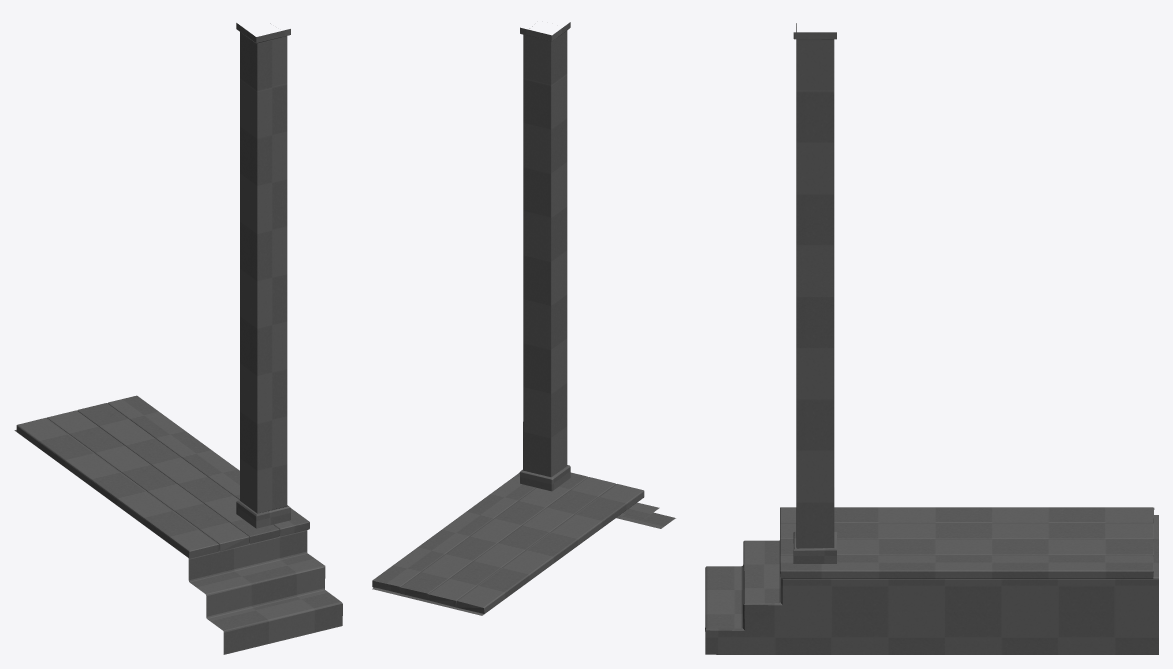
Rendered from SM_House_FrontStairs_A_RHT.glb.
3 renders of one model, left to right at view 1: azimuth 30°, elevation 25°; view 2: azimuth 150°, elevation 25°; view 3: azimuth 270°, elevation 25°, orthographic. The views are drawn at different scales.
Parts seen in each view (by area): view 1: SM_House_FrontStairs_A_RHT; view 2: SM_House_FrontStairs_A_RHT; view 3: SM_House_FrontStairs_A_RHT.
Part boxes in pixels (bbox=[...]): SM_House_FrontStairs_A_RHT: bbox=[14, 23, 342, 654]; SM_House_FrontStairs_A_RHT: bbox=[372, 22, 675, 615]; SM_House_FrontStairs_A_RHT: bbox=[705, 23, 1158, 654].
Bounding box in the file's own units: 80.06 × 360 × 240.
1 material, 1 textured.
